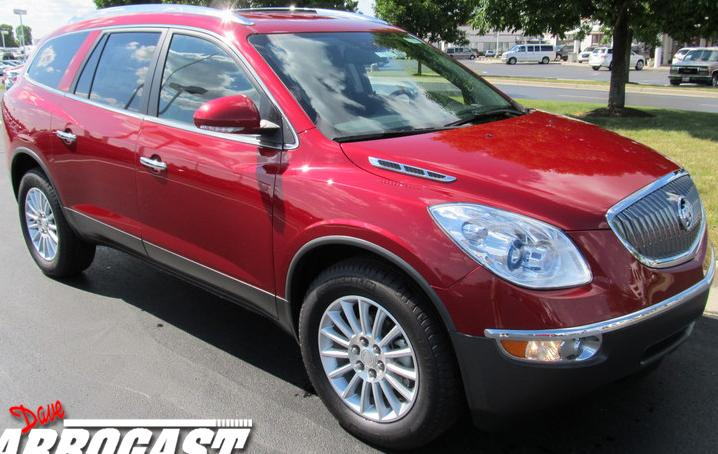front_view: (425, 159, 717, 410)
headlight: (424, 193, 597, 298)
side_glass: (22, 25, 279, 153)
